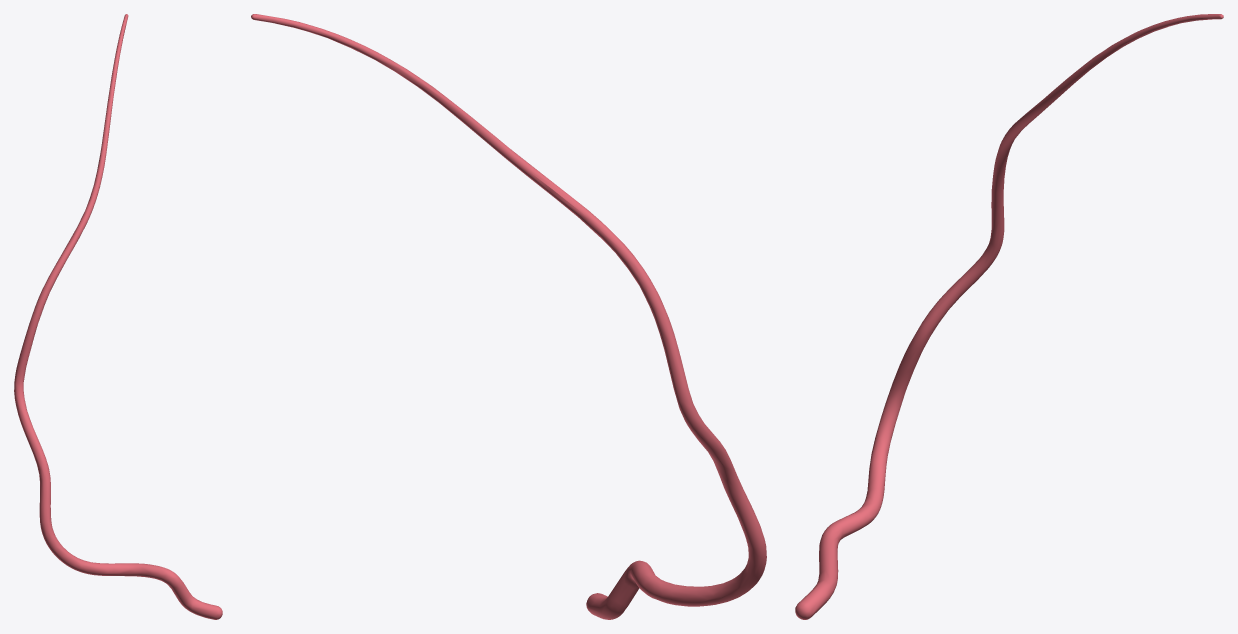
File: fma50480_fj5039.glb
3 renders of one model, left to right at view 1: azimuth 30°, elevation 25°; view 2: azimuth 150°, elevation 25°; view 3: azimuth 270°, elevation 25°, orthographic. The views are drawn at different scales.
Parts seen in each view (by area): view 1: FMA50480_FJ5039; view 2: FMA50480_FJ5039; view 3: FMA50480_FJ5039.
Boxes of the visible parts, <box> form: FMA50480_FJ5039: <box>14,14,222,619</box>; FMA50480_FJ5039: <box>251,14,766,619</box>; FMA50480_FJ5039: <box>795,14,1223,619</box>.
Bounding box in the file's own units: 0.0295 × 0.0652 × 0.0392.
